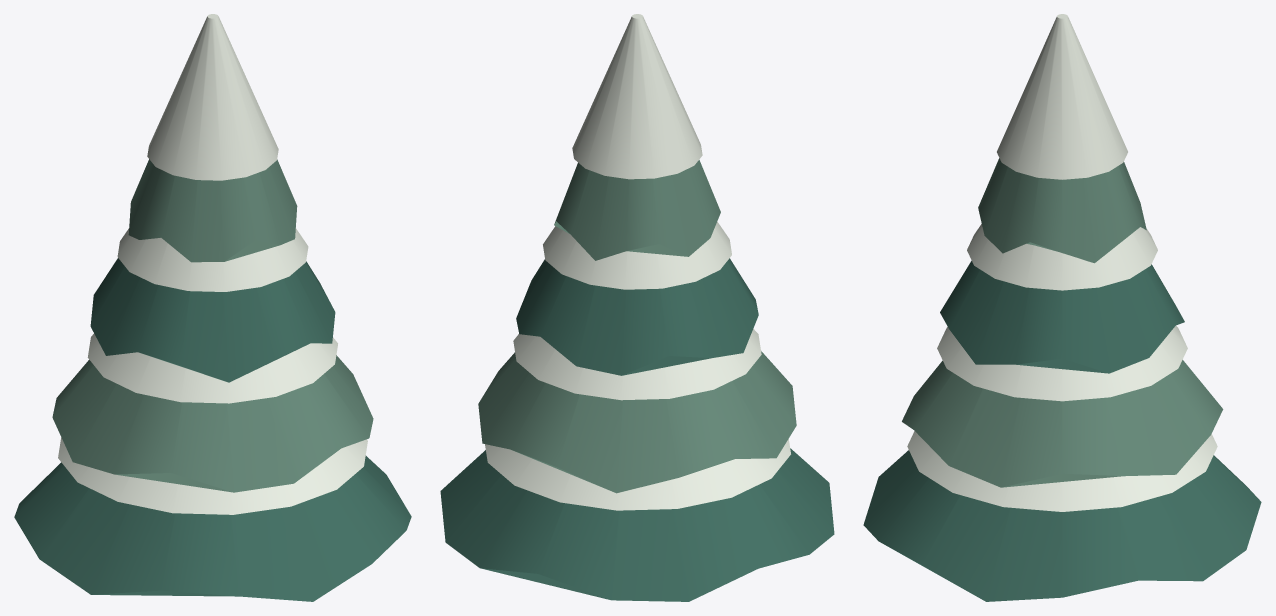
File: snow-pine-crown.glb
The picture shows the model from 3 angles, left to right: view 1: azimuth 30°, elevation 25°; view 2: azimuth 150°, elevation 25°; view 3: azimuth 270°, elevation 25°; orthographic projection.
Parts seen in each view (by area): view 1: snow-pine-crown_pine, snow-pine-crown_pine_light, snow-pine-crown_snow; view 2: snow-pine-crown_pine, snow-pine-crown_pine_light, snow-pine-crown_snow; view 3: snow-pine-crown_pine, snow-pine-crown_pine_light, snow-pine-crown_snow.
Part boxes in pixels (x1,y1,x2,y2): snow-pine-crown_pine: (14, 258, 411, 601); snow-pine-crown_pine_light: (52, 159, 373, 492); snow-pine-crown_snow: (58, 14, 367, 514); snow-pine-crown_pine: (440, 258, 834, 601); snow-pine-crown_pine_light: (478, 160, 796, 493); snow-pine-crown_snow: (485, 14, 790, 510); snow-pine-crown_pine: (863, 260, 1261, 601); snow-pine-crown_pine_light: (902, 158, 1223, 487); snow-pine-crown_snow: (907, 14, 1217, 511).
Bounding box in the file's own units: 2.5 × 3.52 × 2.5.
